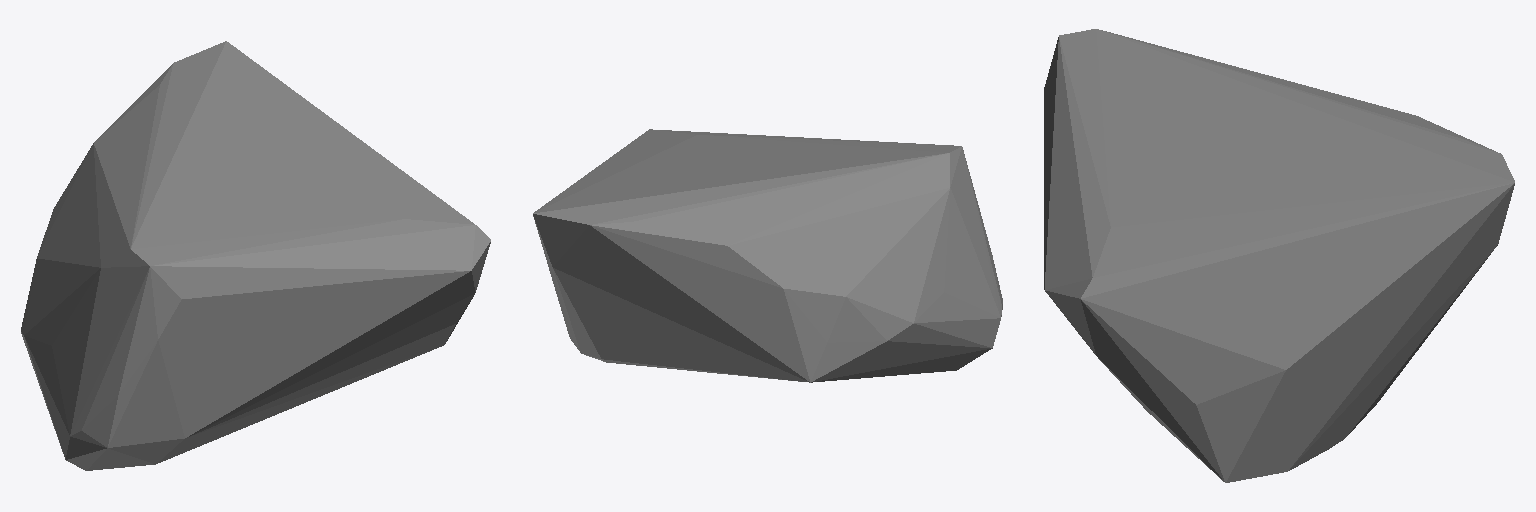
URDF robot description (45_496):
<?xml version="1.0"?>
<robot name="45_496">
  <link name="link">
    <contact>
      <lateral_friction value="0.6"/>
    </contact>
    <inertial>
      <origin xyz="0.0018968684492526268 -0.008303364650411371 0.0005731565049746454" rpy="0 0 0"/>
      <mass value = "0.6709713394277267"/>
      <inertia ixx="0.0004130349123892496" ixy="8.902783446306454e-05" ixz="2.316041835530179e-06" iyy="0.0005589167571950032" iyz="2.2650834866136023e-05" izz="0.0007247107876172305" />
    </inertial>
    <visual name="visual">
      <geometry>
        <mesh filename="45_496.obj"/>
      </geometry>
      <material name="material">
        <color rgba="0.55938889631814 0.55938889631814 0.55938889631814 1.0"/>
      </material>
    </visual>
    <collision name="collision">
      <geometry>
        <mesh filename="45_496.obj"/>
      </geometry>
    </collision>
  </link>
</robot>

--- Facts derived from the render (not from the file) ---
3 views of the same robot in one strip: view 1: azimuth 30°, elevation 25°; view 2: azimuth 150°, elevation 25°; view 3: azimuth 270°, elevation 25° (orthographic).
Model 45_496 with 1 links and 0 joints (none), rooted at link, posed every joint at zero.
Links seen in each view (by area): view 1: link; view 2: link; view 3: link.
Boxes of the visible links, x1=… form: link: x1=21, y1=41, x2=490, y2=470; link: x1=533, y1=129, x2=1002, y2=382; link: x1=1044, y1=29, x2=1514, y2=482.
Size in the robot's own frame: 0.1086 by 0.0927 by 0.0557 metres.
Meshes: 1 distinct files referenced, 1 mesh visuals loaded (1 OBJ).
